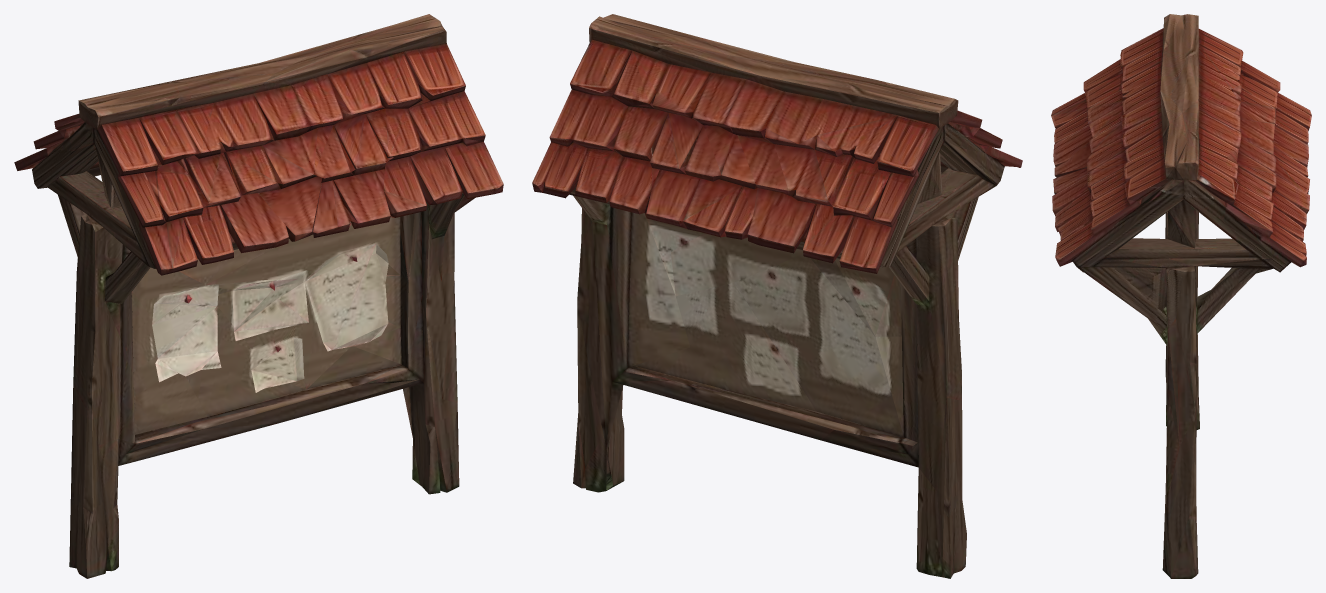
The model's file is notice_board_3d.glb.
The picture shows the model from 3 angles, left to right: view 1: azimuth 30°, elevation 25°; view 2: azimuth 150°, elevation 25°; view 3: azimuth 270°, elevation 25°; orthographic projection. The views are drawn at different scales.
Visible parts, largest first — view 1: Mesh_0; view 2: Mesh_0; view 3: Mesh_0.
Part boxes in pixels (left/top/right/bottom): Mesh_0: left=14, top=14, right=503, bottom=578; Mesh_0: left=532, top=14, right=1022, bottom=578; Mesh_0: left=1051, top=14, right=1311, bottom=578.
Size of the model in its own units: 1.48 by 1.75 by 1.01.
1 material, 1 textured.
